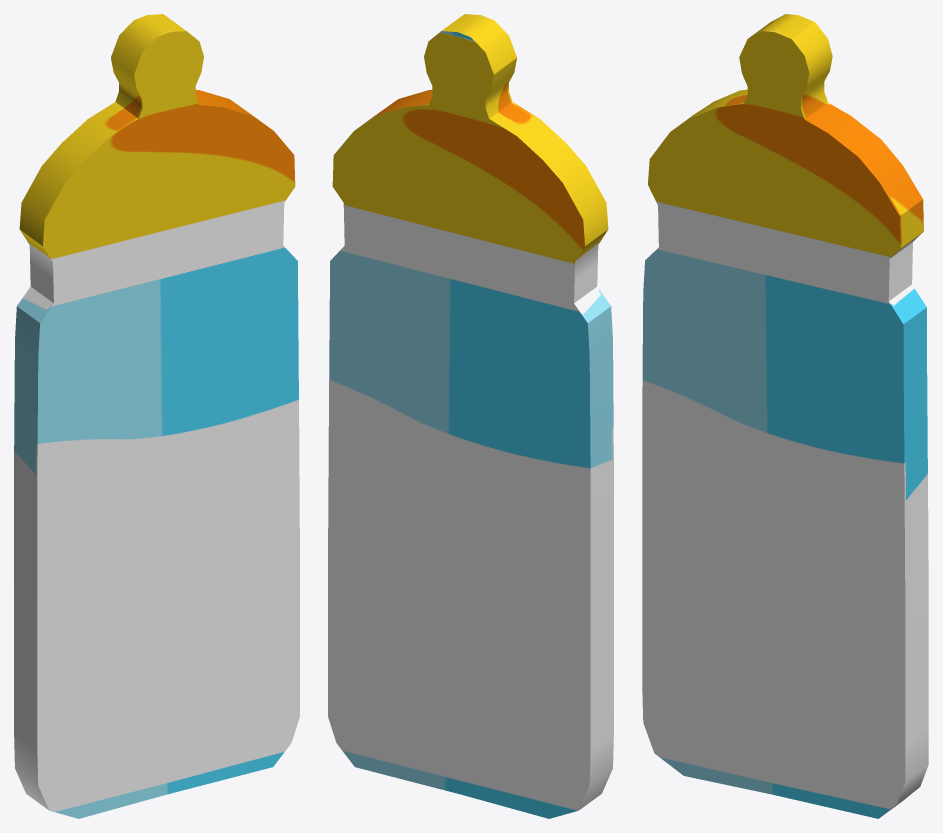
File: Milk Bottle.fbx
The picture shows the model from 3 angles, left to right: view 1: azimuth 30°, elevation 25°; view 2: azimuth 150°, elevation 25°; view 3: azimuth 330°, elevation 25°; orthographic projection.
Parts seen in each view (by area): view 1: polySurface1; view 2: polySurface1; view 3: polySurface1.
Boxes of the visible parts, x1,y1,x2,y2 form: polySurface1: (14,14,299,818); polySurface1: (328,14,613,818); polySurface1: (642,14,928,818).
Size of the model in its own units: 8.67 by 24.11 by 1.33.
Materials: 1 (1 with a texture image).
